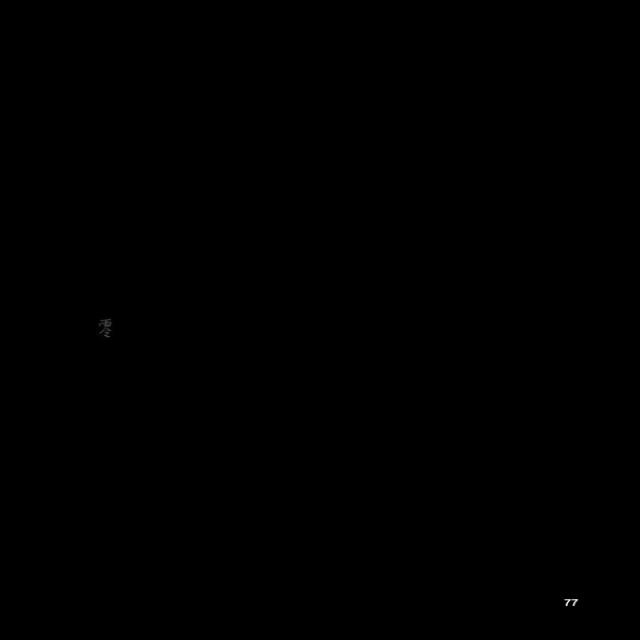0 -zero-: (91, 315, 119, 344)
